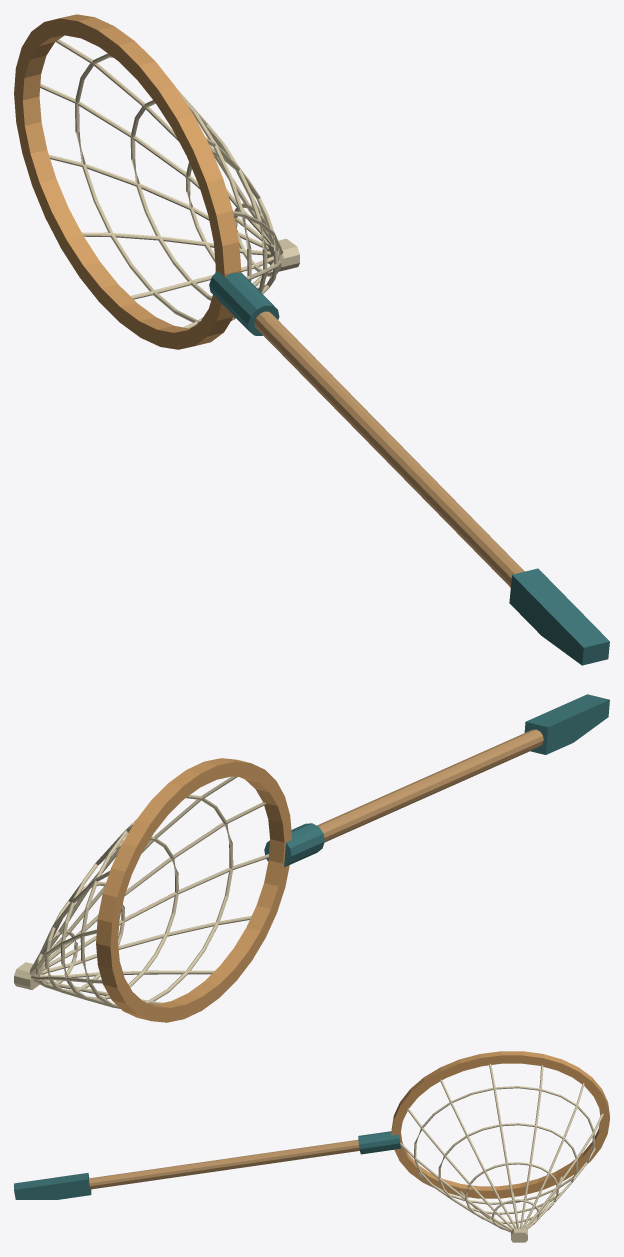
The picture shows the model from 3 angles, top to bottom: view 1: azimuth 30°, elevation 25°; view 2: azimuth 150°, elevation 25°; view 3: azimuth 270°, elevation 25°; orthographic projection. The views are drawn at different scales.
Visible parts, largest first — view 1: Frame_OpenOval, Handle_LongShaft, Grip_FlatRestingButt, Bag_CrossLoop_01, Sleeve_FrameSocket, Bag_CrossLoop_02, Bag_Longitudinal_00, Bag_Longitudinal_11, Bag_CrossLoop_03, Bag_Longitudinal_01; view 2: Frame_OpenOval, Handle_LongShaft, Grip_FlatRestingButt, Bag_CrossLoop_01, Bag_CrossLoop_02, Sleeve_FrameSocket, Bag_Longitudinal_05, Bag_Longitudinal_06, Bag_Longitudinal_07, Bag_Longitudinal_04, Bag_CrossLoop_03, Bag_Longitudinal_08 (+2 smaller); view 3: Frame_OpenOval, Handle_LongShaft, Grip_FlatRestingButt, Bag_CrossLoop_01, Bag_CrossLoop_02, Sleeve_FrameSocket, Bag_CrossLoop_03, Bag_Longitudinal_04, Bag_Longitudinal_03, Bag_Longitudinal_02, Bag_Longitudinal_05, Bag_Longitudinal_01 (+2 smaller).
Part boxes in pixels (<box>): Frame_OpenOval: <box>14,14,241,349</box>; Handle_LongShaft: <box>254,311,524,587</box>; Grip_FlatRestingButt: <box>509,568,609,665</box>; Bag_CrossLoop_01: <box>75,53,251,323</box>; Sleeve_FrameSocket: <box>209,270,279,335</box>; Bag_CrossLoop_02: <box>130,100,267,300</box>; Bag_Longitudinal_00: <box>40,83,268,245</box>; Bag_Longitudinal_11: <box>49,154,268,250</box>; Bag_CrossLoop_03: <box>185,151,278,289</box>; Bag_Longitudinal_01: <box>55,39,272,244</box>; Frame_OpenOval: <box>96,758,291,1022</box>; Handle_LongShaft: <box>317,729,543,842</box>; Grip_FlatRestingButt: <box>524,694,609,754</box>; Bag_CrossLoop_01: <box>80,795,233,1007</box>; Bag_CrossLoop_02: <box>61,836,178,999</box>; Sleeve_FrameSocket: <box>264,823,324,866</box>; Bag_Longitudinal_05: <box>42,802,266,967</box>; Bag_Longitudinal_06: <box>42,854,268,970</box>; Bag_Longitudinal_07: <box>41,916,251,974</box>; Bag_Longitudinal_04: <box>49,776,237,956</box>; Bag_CrossLoop_03: <box>45,881,124,992</box>; Bag_Longitudinal_08: <box>39,970,214,977</box>; Frame_OpenOval: <box>391,1051,609,1198</box>; Handle_LongShaft: <box>89,1140,359,1189</box>; Grip_FlatRestingButt: <box>14,1173,91,1199</box>; Bag_CrossLoop_01: <box>414,1086,594,1204</box>; Bag_CrossLoop_02: <box>438,1123,577,1214</box>; Sleeve_FrameSocket: <box>358,1131,400,1154</box>; Bag_CrossLoop_03: <box>465,1162,558,1223</box>; Bag_Longitudinal_04: <box>440,1079,517,1228</box>; Bag_Longitudinal_03: <box>489,1063,519,1229</box>; Bag_Longitudinal_02: <box>519,1065,543,1229</box>; Bag_Longitudinal_05: <box>407,1108,514,1229</box>; Bag_Longitudinal_01: <box>522,1083,584,1228</box>.
Bounding box in the file's own units: 0.378 × 0.5034 × 1.9.
